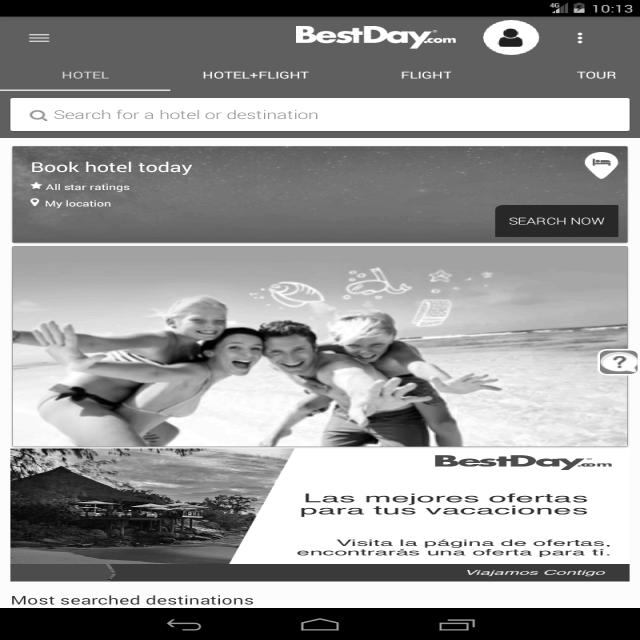Button: (486, 198, 622, 240)
EditText: (4, 95, 633, 136)
ImageButton: (562, 25, 592, 53), (16, 27, 62, 45)
ImageView: (31, 266, 592, 441), (18, 451, 267, 560)
TextView: (18, 157, 204, 219), (295, 488, 594, 520), (298, 534, 609, 558), (277, 17, 431, 51), (13, 589, 255, 609), (428, 452, 618, 471), (190, 62, 320, 82), (459, 566, 613, 578), (567, 64, 626, 82)
